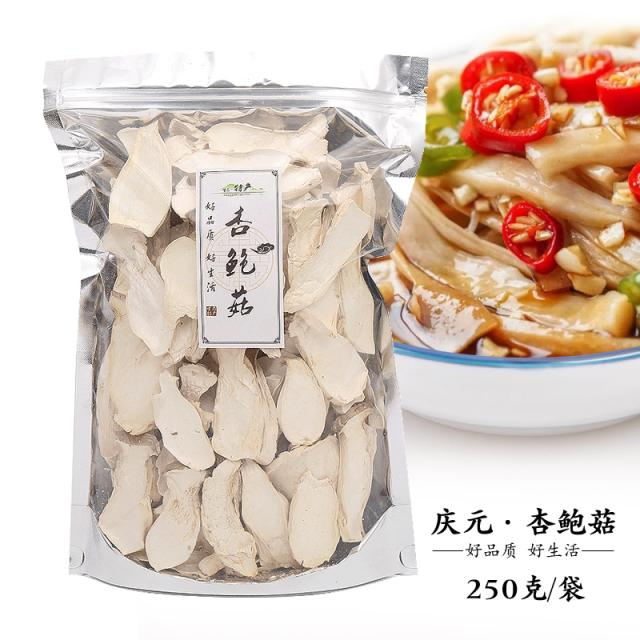Pleurotus eryngii: (78, 122, 382, 556)
